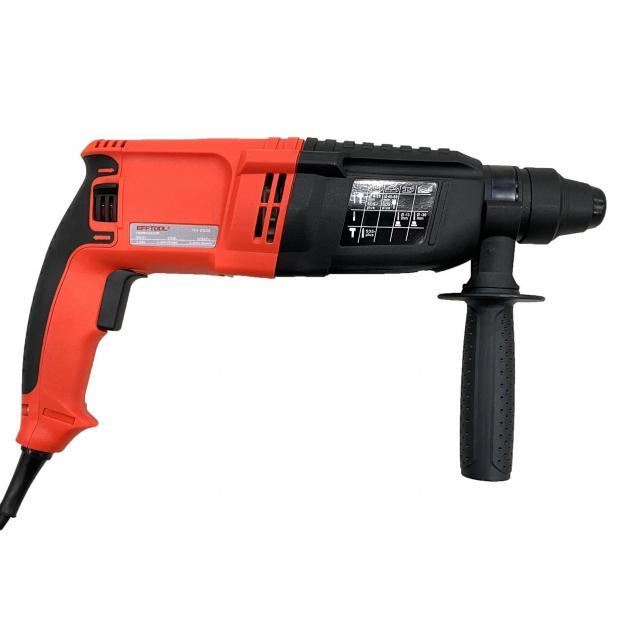drill: (0, 137, 607, 531)
